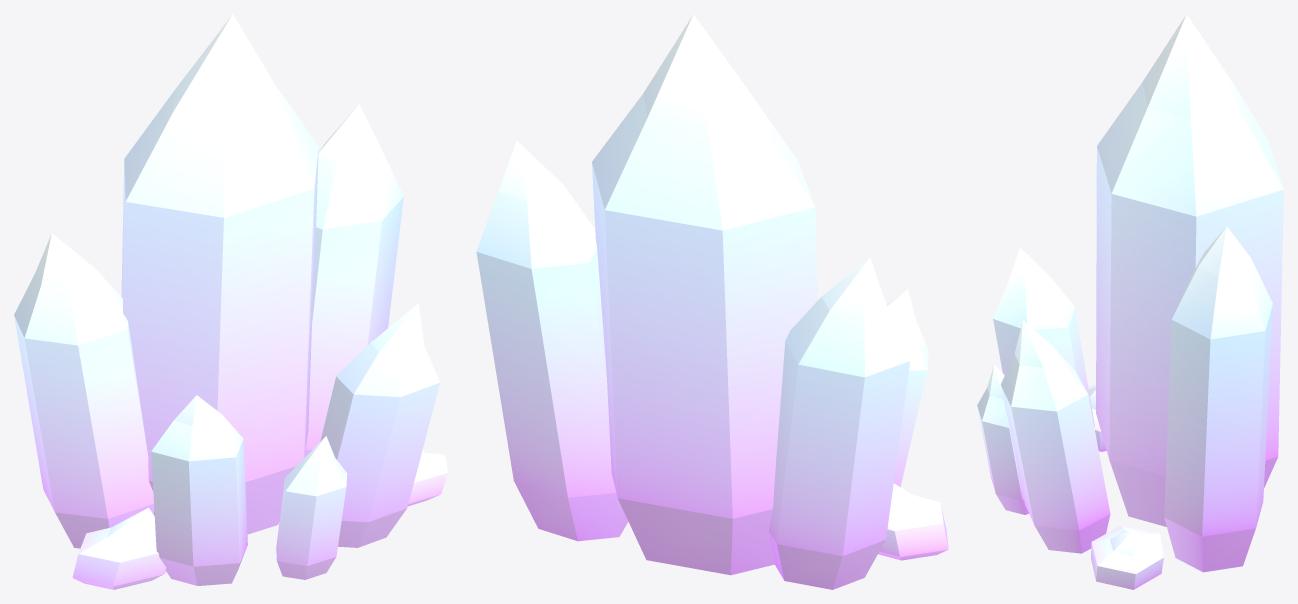
File: crystal_cluster_small_a.glb
3 views of the same model, side by side, from view 1: azimuth 30°, elevation 25°; view 2: azimuth 150°, elevation 25°; view 3: azimuth 270°, elevation 25° (orthographic). The views are drawn at different scales.
Visible parts, largest first — view 1: crystal_cluster_small_a; view 2: crystal_cluster_small_a; view 3: crystal_cluster_small_a.
Boxes of the visible parts, x1,y1,x2,y2 form: crystal_cluster_small_a: (14, 14, 447, 589); crystal_cluster_small_a: (476, 14, 948, 589); crystal_cluster_small_a: (977, 14, 1283, 589).
Size of the model in its own units: 1.59 by 1.9 by 1.07.
